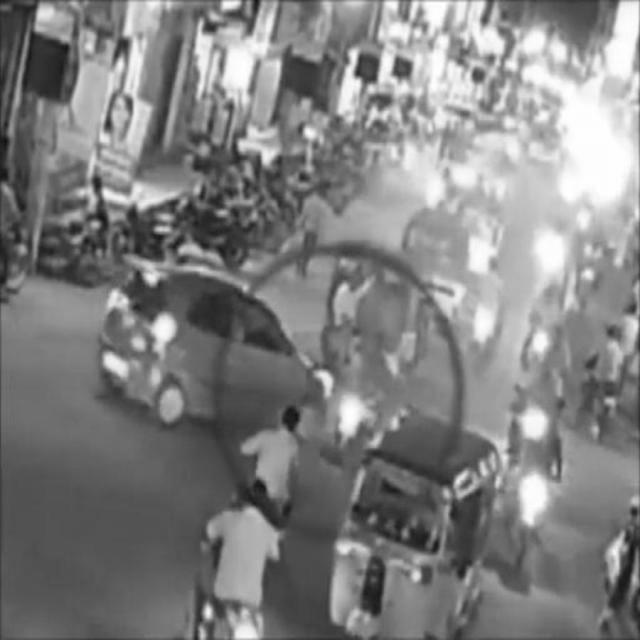vehicle: (96, 262, 330, 439), (331, 410, 501, 640), (319, 252, 431, 380), (197, 474, 283, 636), (240, 408, 308, 542)
